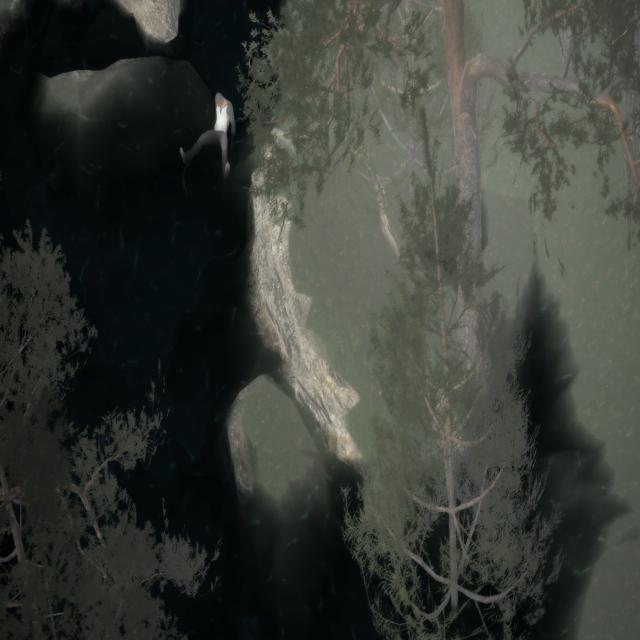Human: (179, 86, 238, 179)
